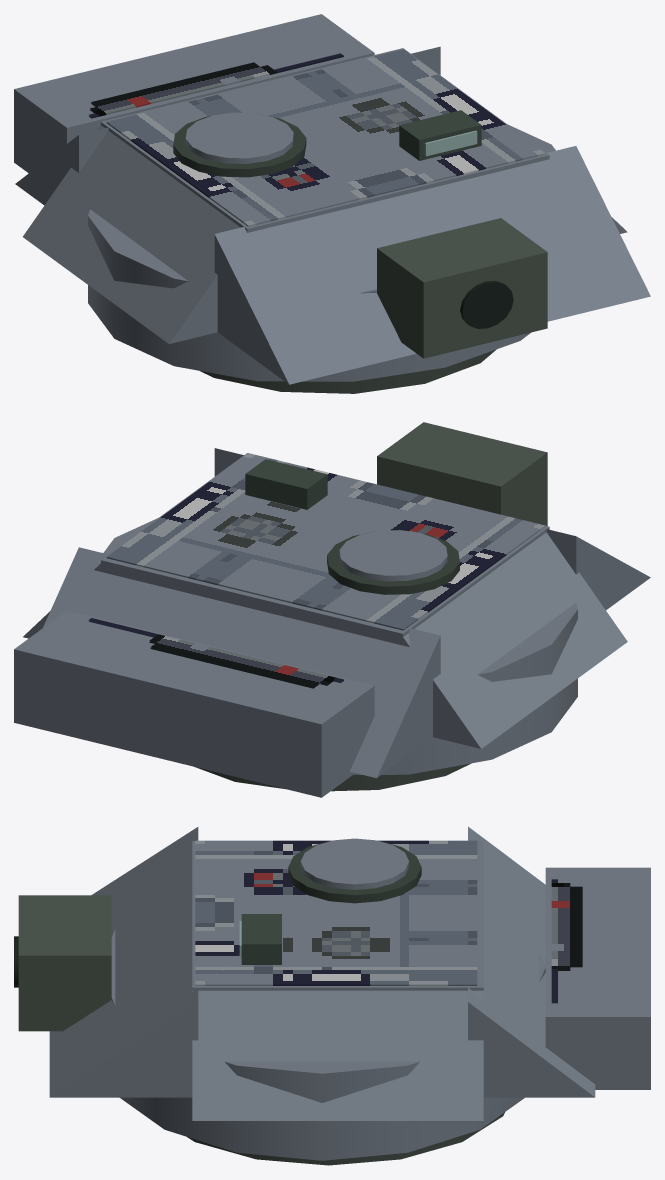
Rendered from CMU3DReduxVehicleTankTurretTWEMounted.glb.
3 renders of one model, top to bottom at view 1: azimuth 30°, elevation 25°; view 2: azimuth 150°, elevation 25°; view 3: azimuth 270°, elevation 25°, orthographic.
Parts seen in each view (by area): view 1: sloped turret front, turret roof finish, left turret cheek, rear turret bustle, mantlet housing, turret lower casting, commander hatch, turret roof, bustle finish, sloped turret rear, rotating turret bearing, commander hatch rim (+3 smaller); view 2: rear turret bustle, turret roof finish, sloped turret rear, left turret cheek, mantlet housing, turret lower casting, turret roof, commander hatch, sloped turret front, bustle finish, periscope, commander hatch rim (+1 smaller); view 3: right turret cheek, turret roof finish, sloped turret front, rear turret bustle, sloped turret rear, turret lower casting, mantlet housing, commander hatch, turret roof, bustle finish, commander hatch rim, periscope (+1 smaller).
Boxes of the visible parts, bbox=[...] form: sloped turret front: bbox=[214, 146, 650, 384]; turret roof finish: bbox=[106, 49, 545, 226]; left turret cheek: bbox=[23, 125, 249, 343]; rear turret bustle: bbox=[14, 14, 374, 173]; mantlet housing: bbox=[377, 218, 547, 358]; turret lower casting: bbox=[88, 124, 555, 381]; commander hatch: bbox=[185, 112, 293, 163]; turret roof: bbox=[101, 48, 549, 232]; bustle finish: bbox=[89, 53, 343, 118]; sloped turret rear: bbox=[15, 46, 440, 205]; rotating turret bearing: bbox=[200, 349, 496, 393]; commander hatch rim: bbox=[173, 114, 306, 177]; rear turret bustle: bbox=[14, 610, 374, 797]; turret roof finish: bbox=[106, 453, 545, 630]; sloped turret rear: bbox=[43, 547, 440, 778]; left turret cheek: bbox=[403, 532, 627, 748]; mantlet housing: bbox=[377, 422, 547, 525]; turret lower casting: bbox=[103, 518, 577, 774]; turret roof: bbox=[101, 453, 549, 645]; commander hatch: bbox=[339, 530, 447, 581]; sloped turret front: bbox=[214, 448, 650, 609]; bustle finish: bbox=[88, 618, 343, 688]; periscope: bbox=[245, 459, 327, 509]; commander hatch rim: bbox=[327, 531, 459, 594]; right turret cheek: bbox=[192, 990, 483, 1120]; turret roof finish: bbox=[195, 840, 477, 985]; sloped turret front: bbox=[49, 827, 198, 1097]; rear turret bustle: bbox=[545, 867, 650, 1089]; sloped turret rear: bbox=[468, 826, 595, 1097]; turret lower casting: bbox=[111, 930, 545, 1160]; mantlet housing: bbox=[18, 895, 111, 1031]; commander hatch: bbox=[300, 838, 409, 889]; turret roof: bbox=[192, 841, 483, 990]; bustle finish: bbox=[551, 879, 582, 1003]; commander hatch rim: bbox=[288, 841, 421, 903]; periscope: bbox=[241, 914, 281, 964].
Bounding box in the file's own units: 1.28 × 0.5175 × 1.54.
9 materials, 2 textured.
